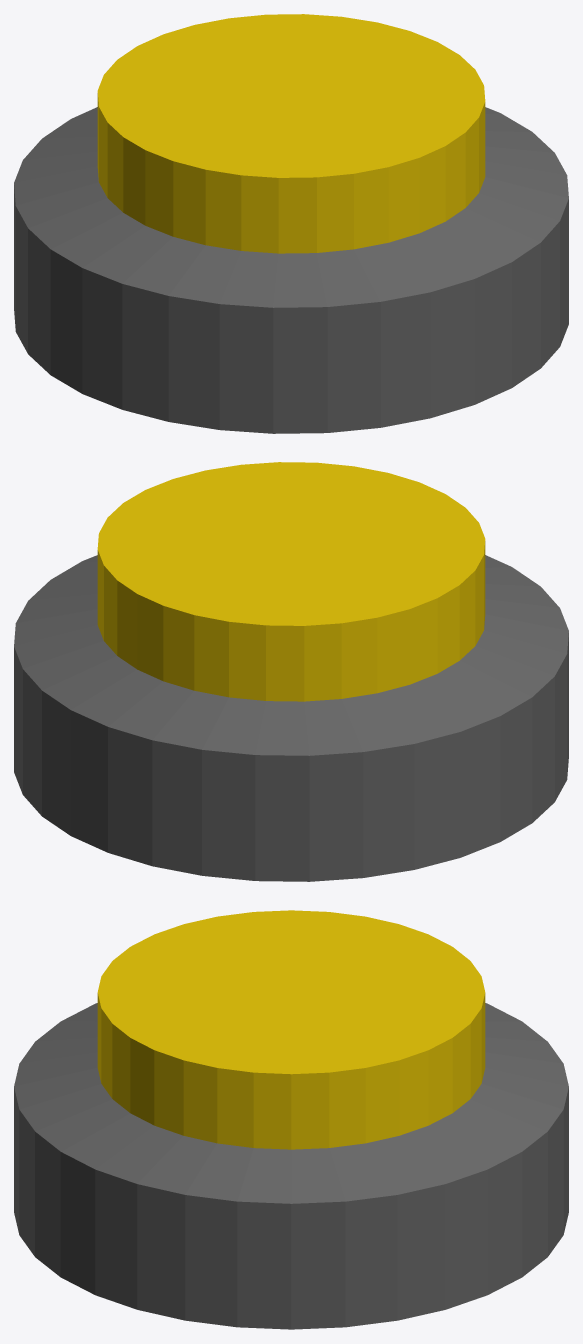
File: Bouton_KOT.fbx
3 views of the same model, one above another, from view 1: azimuth 30°, elevation 25°; view 2: azimuth 150°, elevation 25°; view 3: azimuth 270°, elevation 25° (orthographic).
Visible parts, largest first — view 1: Cylinder, Cylinder.001; view 2: Cylinder, Cylinder.001; view 3: Cylinder, Cylinder.001.
Part boxes in pixels (x1,y1,x2,y2): Cylinder: (14,107,568,433); Cylinder.001: (97,14,485,253); Cylinder: (14,555,568,881); Cylinder.001: (97,462,485,701); Cylinder: (14,1003,568,1329); Cylinder.001: (97,910,485,1149).
Bounding box in the file's own units: 100 × 43.75 × 100.
